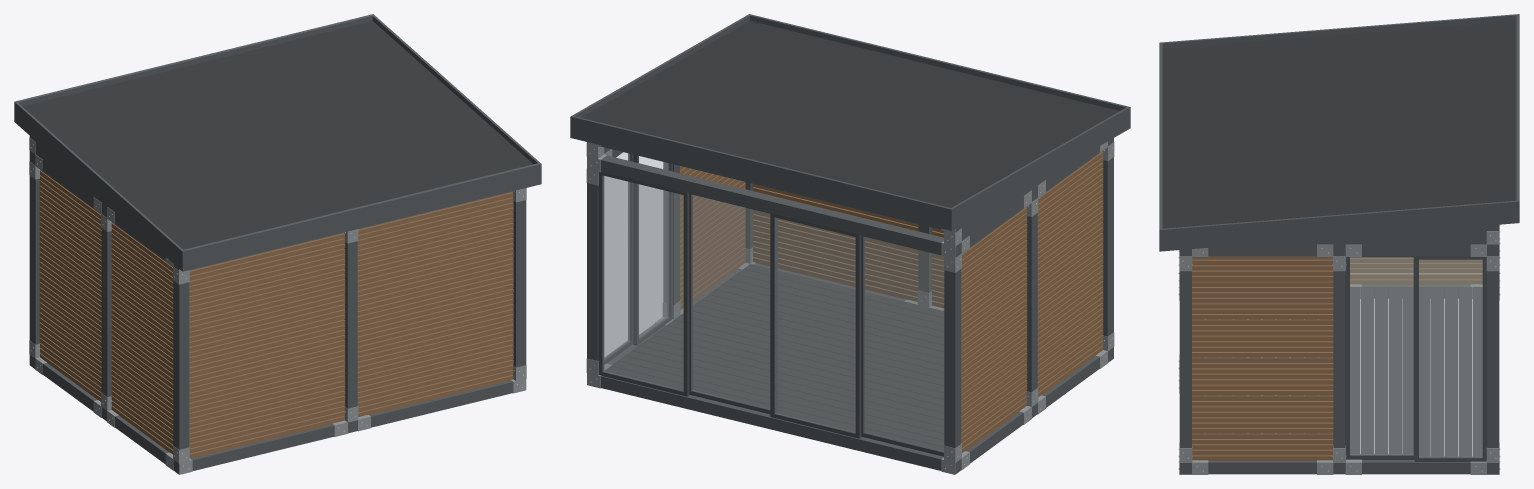
The model's file is paviljon.glb.
3 views of the same model, side by side, from view 1: azimuth 30°, elevation 25°; view 2: azimuth 150°, elevation 25°; view 3: azimuth 270°, elevation 25° (orthographic). The views are drawn at different scales.
Parts seen in each view (by area): view 1: Laudis, Katuseplaat, Karkass_postid_talad, Otsalauad, Metallkarbikud; view 2: Klaasid, Katuseplaat, Laudis, Terrassilauad, Karkass_postid_talad, Otsalauad, Klaasiraamid, Metallkarbikud; view 3: Katuseplaat, Laudis, Klaasid, Terrassilauad, Karkass_postid_talad, Otsalauad, Klaasiraamid, Metallkarbikud.
Part boxes in pixels (box(x1,y1,x2,y2)): Laudis: box(39, 170, 513, 458); Katuseplaat: box(22, 21, 533, 249); Karkass_postid_talad: box(29, 136, 526, 473); Otsalauad: box(14, 14, 541, 271); Metallkarbikud: box(29, 137, 526, 474); Klaasid: box(603, 152, 943, 451); Katuseplaat: box(581, 21, 1119, 207); Laudis: box(680, 151, 1103, 452); Terrassilauad: box(605, 264, 944, 450); Karkass_postid_talad: box(587, 138, 1113, 473); Otsalauad: box(570, 14, 1130, 230); Klaasiraamid: box(598, 153, 944, 456); Metallkarbikud: box(586, 141, 1114, 474); Katuseplaat: box(1162, 21, 1516, 228); Laudis: box(1192, 256, 1482, 460); Klaasid: box(1350, 257, 1482, 457); Terrassilauad: box(1192, 287, 1482, 456); Karkass_postid_talad: box(1179, 224, 1499, 474); Otsalauad: box(1159, 14, 1519, 251); Klaasiraamid: box(1345, 256, 1486, 461); Metallkarbikud: box(1179, 225, 1499, 474).
Size of the model in its own units: 4.11 by 2.83 by 3.34.
